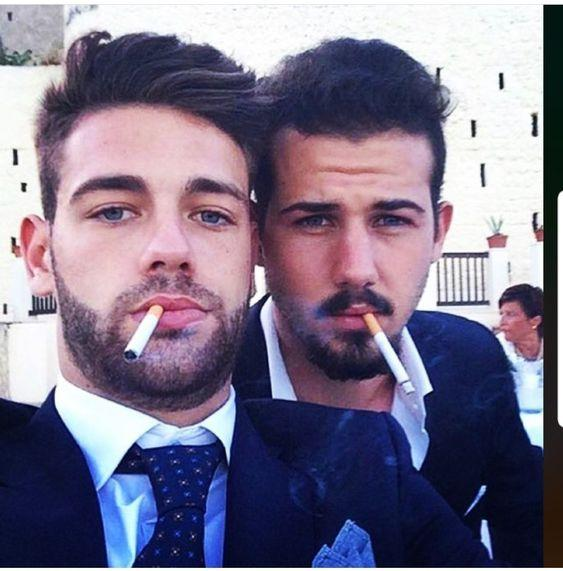cigarette: (361, 312, 415, 396), (122, 305, 164, 364)
